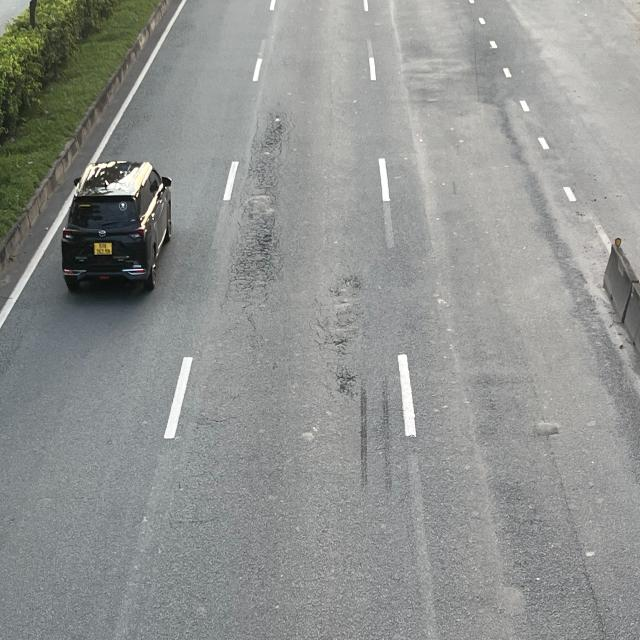car: (59, 158, 173, 292)
